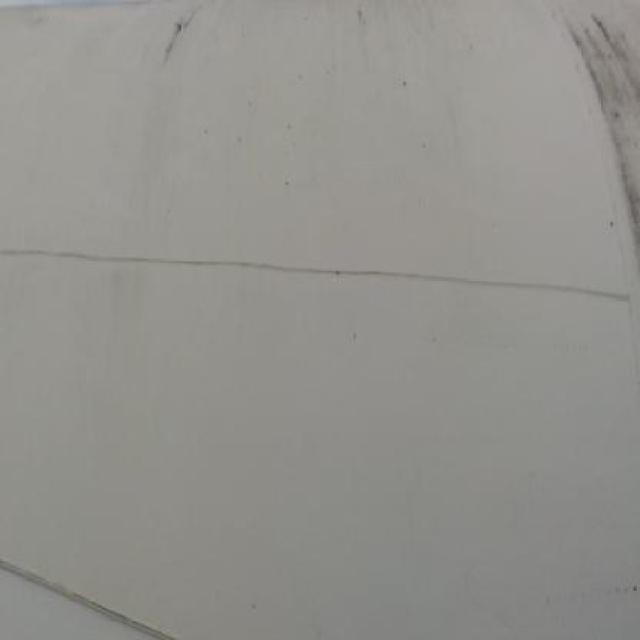Rust: (560, 11, 640, 218), (152, 5, 208, 70)
